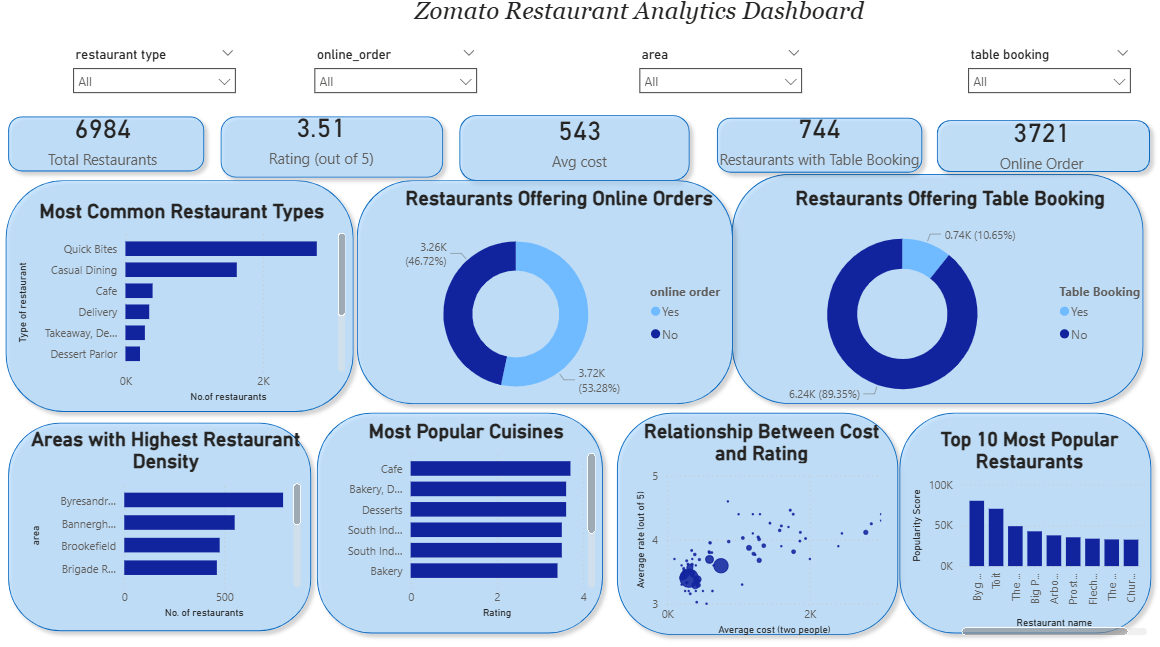

Layout of this report page (visuals, bound fields, positions):
{"tool":"powerbi","page":{"name":"Zomato Analytics Dashboard","canvas":[1280,720],"ordinal":0},"visuals":[{"type":"group","id":"g1","title":"Group 1","box":[3.4,126.5,1275.9,588.3],"z":1000},{"type":"barChart","title":"Most Common Restaurant Types","fields":{"Y":["CountNonNull(cleaned_zomato.restaurant name)"],"Category":["cleaned_zomato.restaurant type"]},"box":[20,228.1,369.2,228.1],"z":4000},{"type":"donutChart","title":"Restaurants Offering Online Orders","fields":{"Category":["cleaned_zomato.online_order"],"Y":["CountNonNull(cleaned_zomato.restaurant name)"]},"box":[420.5,213.8,399.1,255.1],"z":5000},{"type":"donutChart","title":"Restaurants Offering Table Booking","fields":{"Category":["cleaned_zomato.table booking"],"Y":["CountNonNull(cleaned_zomato.restaurant name)"]},"box":[819.6,213.8,459,255.1],"z":7000},{"type":"barChart","title":"Areas with Highest Restaurant Density","fields":{"Category":["cleaned_zomato.area"],"Y":["CountNonNull(cleaned_zomato.restaurant name)"]},"box":[34.2,478.9,306.5,213.8],"z":9000},{"type":"shape","box":[800,190.6,469.8,270.6],"z":10000,"group":"g1"},{"type":"barChart","title":"Most Popular Cuisines","fields":{"Y":["Median(cleaned_zomato.rate (out of 5))"],"Category":["cleaned_zomato.cuisines type"]},"box":[370.6,469,293.6,223.8],"z":10000},{"type":"shape","box":[6.8,464.5,350.6,246.8],"z":10500,"group":"g1"},{"type":"shape","box":[1025.7,131.6,251.9,74.9],"z":11000,"group":"g1"},{"type":"scatterChart","title":"Relationship Between Cost and Rating","fields":{"X":["Avg(cleaned_zomato.avg cost (two people))"],"Category":["cleaned_zomato.restaurant type","cleaned_zomato.restaurant name"],"Y":["Avg(cleaned_zomato.rate (out of 5))"],"Size":["CountNonNull(cleaned_zomato.num of ratings)"]},"box":[698.4,469,286.5,242.3],"z":11000},{"type":"shape","box":[6.8,127.6,233.2,78.3],"z":12000,"group":"g1"},{"type":"clusteredColumnChart","title":"Top 10 Most Popular Restaurants","fields":{"Category":["cleaned_zomato.restaurant name"],"Y":["cleaned_zomato.Popularity Score Measure"]},"box":[1002,478.9,268,232.3],"z":12000},{"type":"textbox","box":[449.4,0,517.4,69.8],"z":13000},{"type":"shape","box":[784.7,129.3,243.4,78.3],"z":13000,"group":"g1"},{"type":"slicer","fields":{"Values":["cleaned_zomato.area"]},"box":[697.1,54.9,199,76.8],"z":14000},{"type":"shape","box":[240,127.6,262.1,85.1],"z":14000,"group":"g1"},{"type":"shape","box":[3.4,197.3,400,272.3],"z":14500,"group":"g1"},{"type":"slicer","fields":{"Values":["cleaned_zomato.table booking"]},"box":[1058,54.9,199,76.8],"z":15000},{"type":"shape","box":[501.4,126.5,270.6,90.2],"z":15000,"group":"g1"},{"type":"shape","box":[675.1,452.7,326.8,262.1],"z":15250,"group":"g1"},{"type":"shape","box":[344.8,452.7,331.9,260.4],"z":15500,"group":"g1"},{"type":"shape","box":[984.8,452.7,294.5,260.4],"z":15750,"group":"g1"},{"type":"slicer","fields":{"Values":["cleaned_zomato.online_order"]},"box":[340.3,54.9,199,76.8],"z":16000},{"type":"shape","box":[389.1,197.3,430.6,263.8],"z":16000,"group":"g1"},{"type":"card","fields":{"Values":["Count(cleaned_zomato.restaurant name)"]},"box":[1049.1,126.4,198.8,74.8],"z":17000},{"type":"card","fields":{"Values":["Count(cleaned_zomato.restaurant name)"]},"box":[785.3,116.6,240.5,84.7],"z":18000},{"type":"card","fields":{"Values":["Avg(cleaned_zomato.avg cost (two people))"]},"box":[498.2,116.6,287.1,89.6],"z":19000},{"type":"card","fields":{"Values":["CountNonNull(cleaned_zomato.restaurant name)"]},"box":[0,116.6,236.8,84.7],"z":20000},{"type":"card","fields":{"Values":["Avg(cleaned_zomato.rate (out of 5))"]},"box":[236.8,116.6,241.7,82.2],"z":21000},{"type":"slicer","fields":{"Values":["cleaned_zomato.restaurant type"]},"box":[75.5,54.9,199,76.8],"z":22000}]}

Visuals, with their boxes in screenshot pixels (x1, y1, x2, y2), scaled from the page's 1280x720 canvas onto the 1160x647 screenshot:
"Group 1" group: x1=3, y1=114, x2=1159, y2=642
"Most Common Restaurant Types" barChart: x1=18, y1=205, x2=353, y2=410
"Restaurants Offering Online Orders" donutChart: x1=381, y1=192, x2=743, y2=421
"Restaurants Offering Table Booking" donutChart: x1=743, y1=192, x2=1159, y2=421
"Areas with Highest Restaurant Density" barChart: x1=31, y1=430, x2=309, y2=622
shape: x1=725, y1=171, x2=1151, y2=414
"Most Popular Cuisines" barChart: x1=336, y1=421, x2=602, y2=623
shape: x1=6, y1=417, x2=324, y2=639
shape: x1=930, y1=118, x2=1158, y2=186
"Relationship Between Cost and Rating" scatterChart: x1=633, y1=421, x2=893, y2=639
shape: x1=6, y1=115, x2=218, y2=185
"Top 10 Most Popular Restaurants" clusteredColumnChart: x1=908, y1=430, x2=1151, y2=639
textbox: x1=407, y1=0, x2=876, y2=63
shape: x1=711, y1=116, x2=932, y2=187
slicer - cleaned_zomato.area: x1=632, y1=49, x2=812, y2=118
shape: x1=218, y1=115, x2=455, y2=191
shape: x1=3, y1=177, x2=366, y2=422
slicer - cleaned_zomato.table booking: x1=959, y1=49, x2=1139, y2=118
shape: x1=454, y1=114, x2=700, y2=195
shape: x1=612, y1=407, x2=908, y2=642
shape: x1=312, y1=407, x2=613, y2=641
shape: x1=892, y1=407, x2=1159, y2=641
slicer - cleaned_zomato.online_order: x1=308, y1=49, x2=489, y2=118
shape: x1=353, y1=177, x2=743, y2=414
card - Count(cleaned_zomato.restaurant name): x1=951, y1=114, x2=1131, y2=181
card - Count(cleaned_zomato.restaurant name): x1=712, y1=105, x2=930, y2=181
card - Avg(cleaned_zomato.avg cost (two people)): x1=451, y1=105, x2=712, y2=185
card - CountNonNull(cleaned_zomato.restaurant name): x1=0, y1=105, x2=215, y2=181
card - Avg(cleaned_zomato.rate (out of 5)): x1=215, y1=105, x2=434, y2=179
slicer - cleaned_zomato.restaurant type: x1=68, y1=49, x2=249, y2=118
